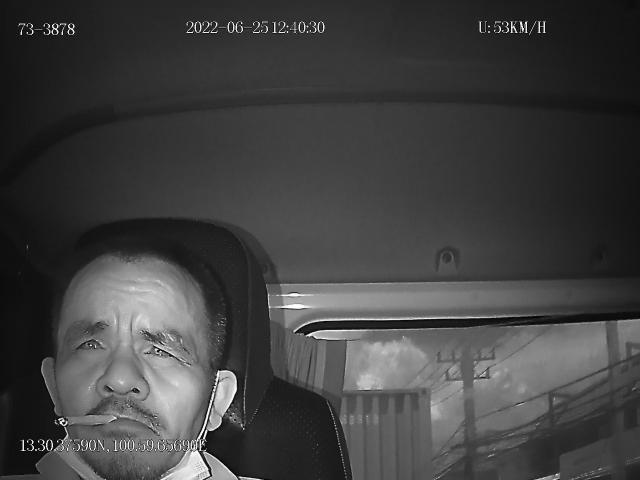SafeDriving: (136, 330, 184, 366), (70, 326, 112, 360)
Smoking: (57, 412, 121, 426)
